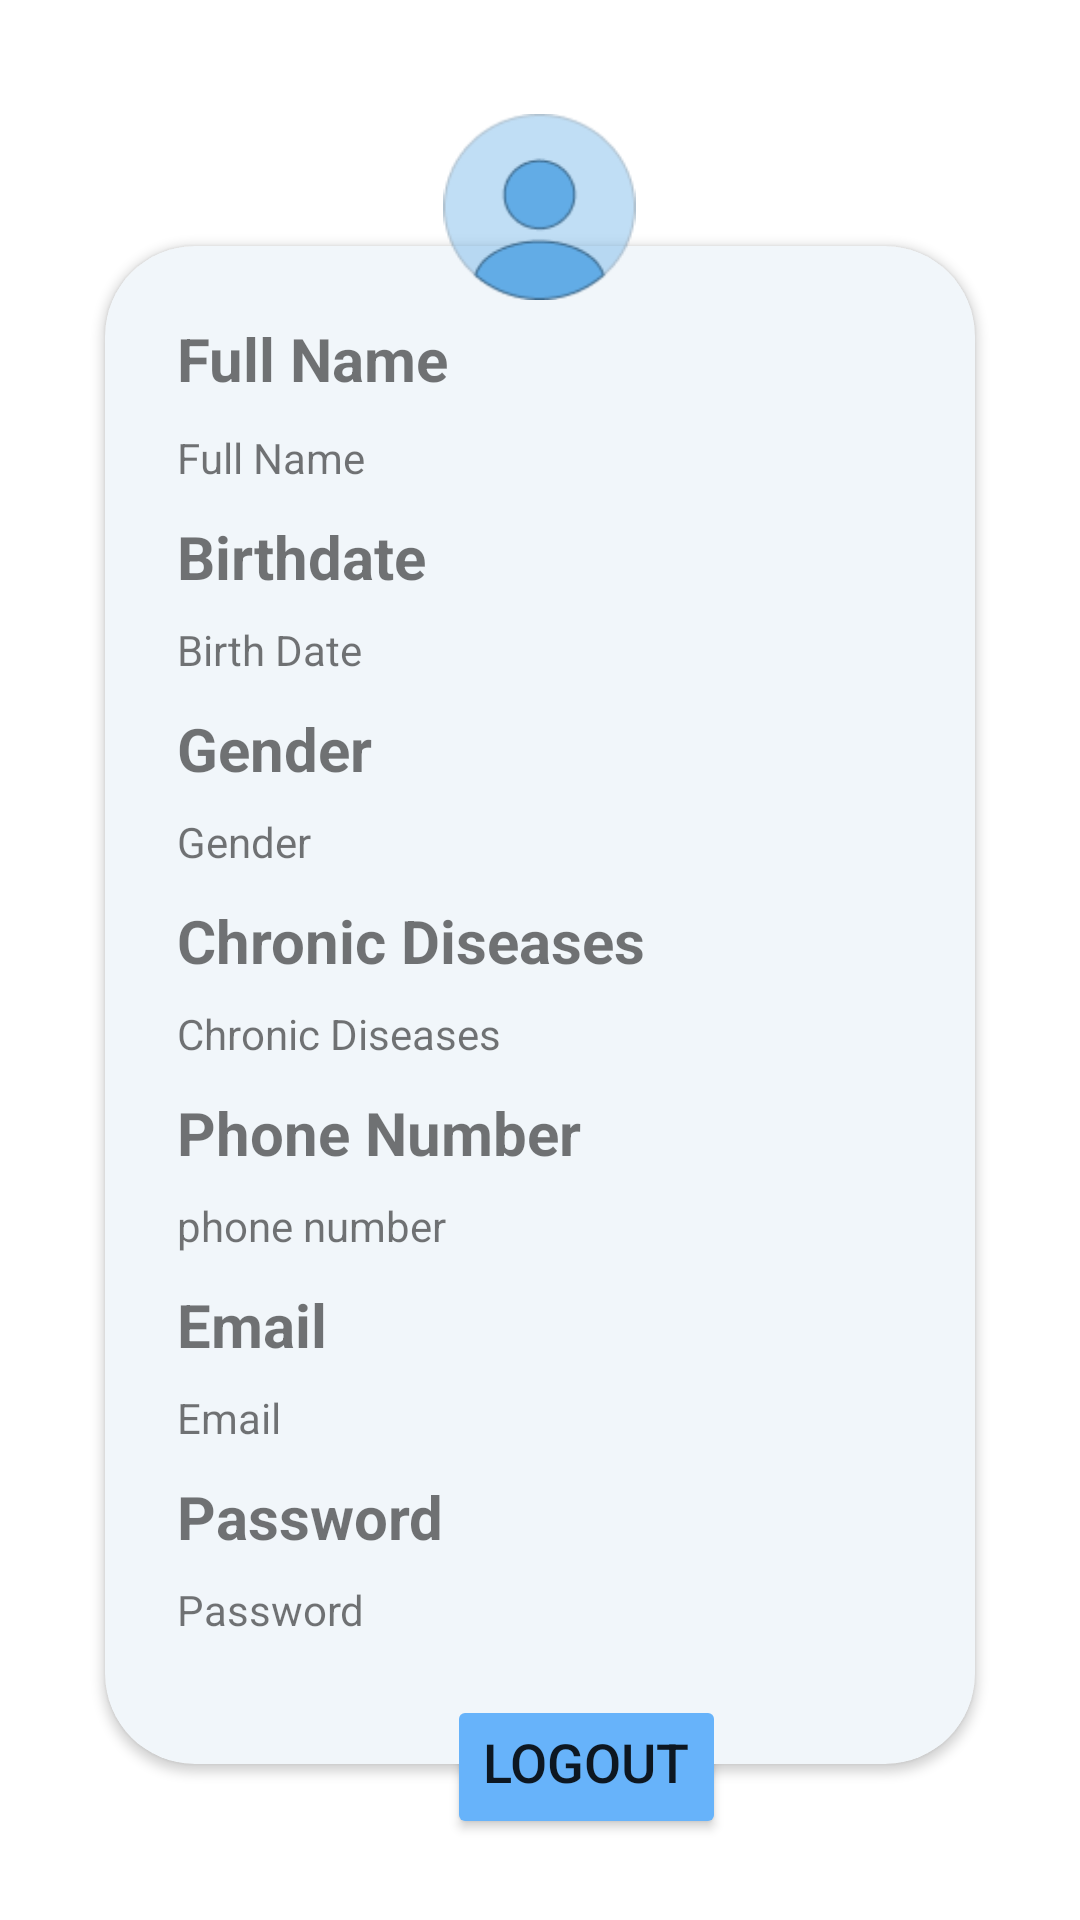

Locate icon controls on the screen. Image size 1080w x 1920h, boxes as BBox(x1, y1, x2, y2).
user: BBox(412, 114, 667, 300)
